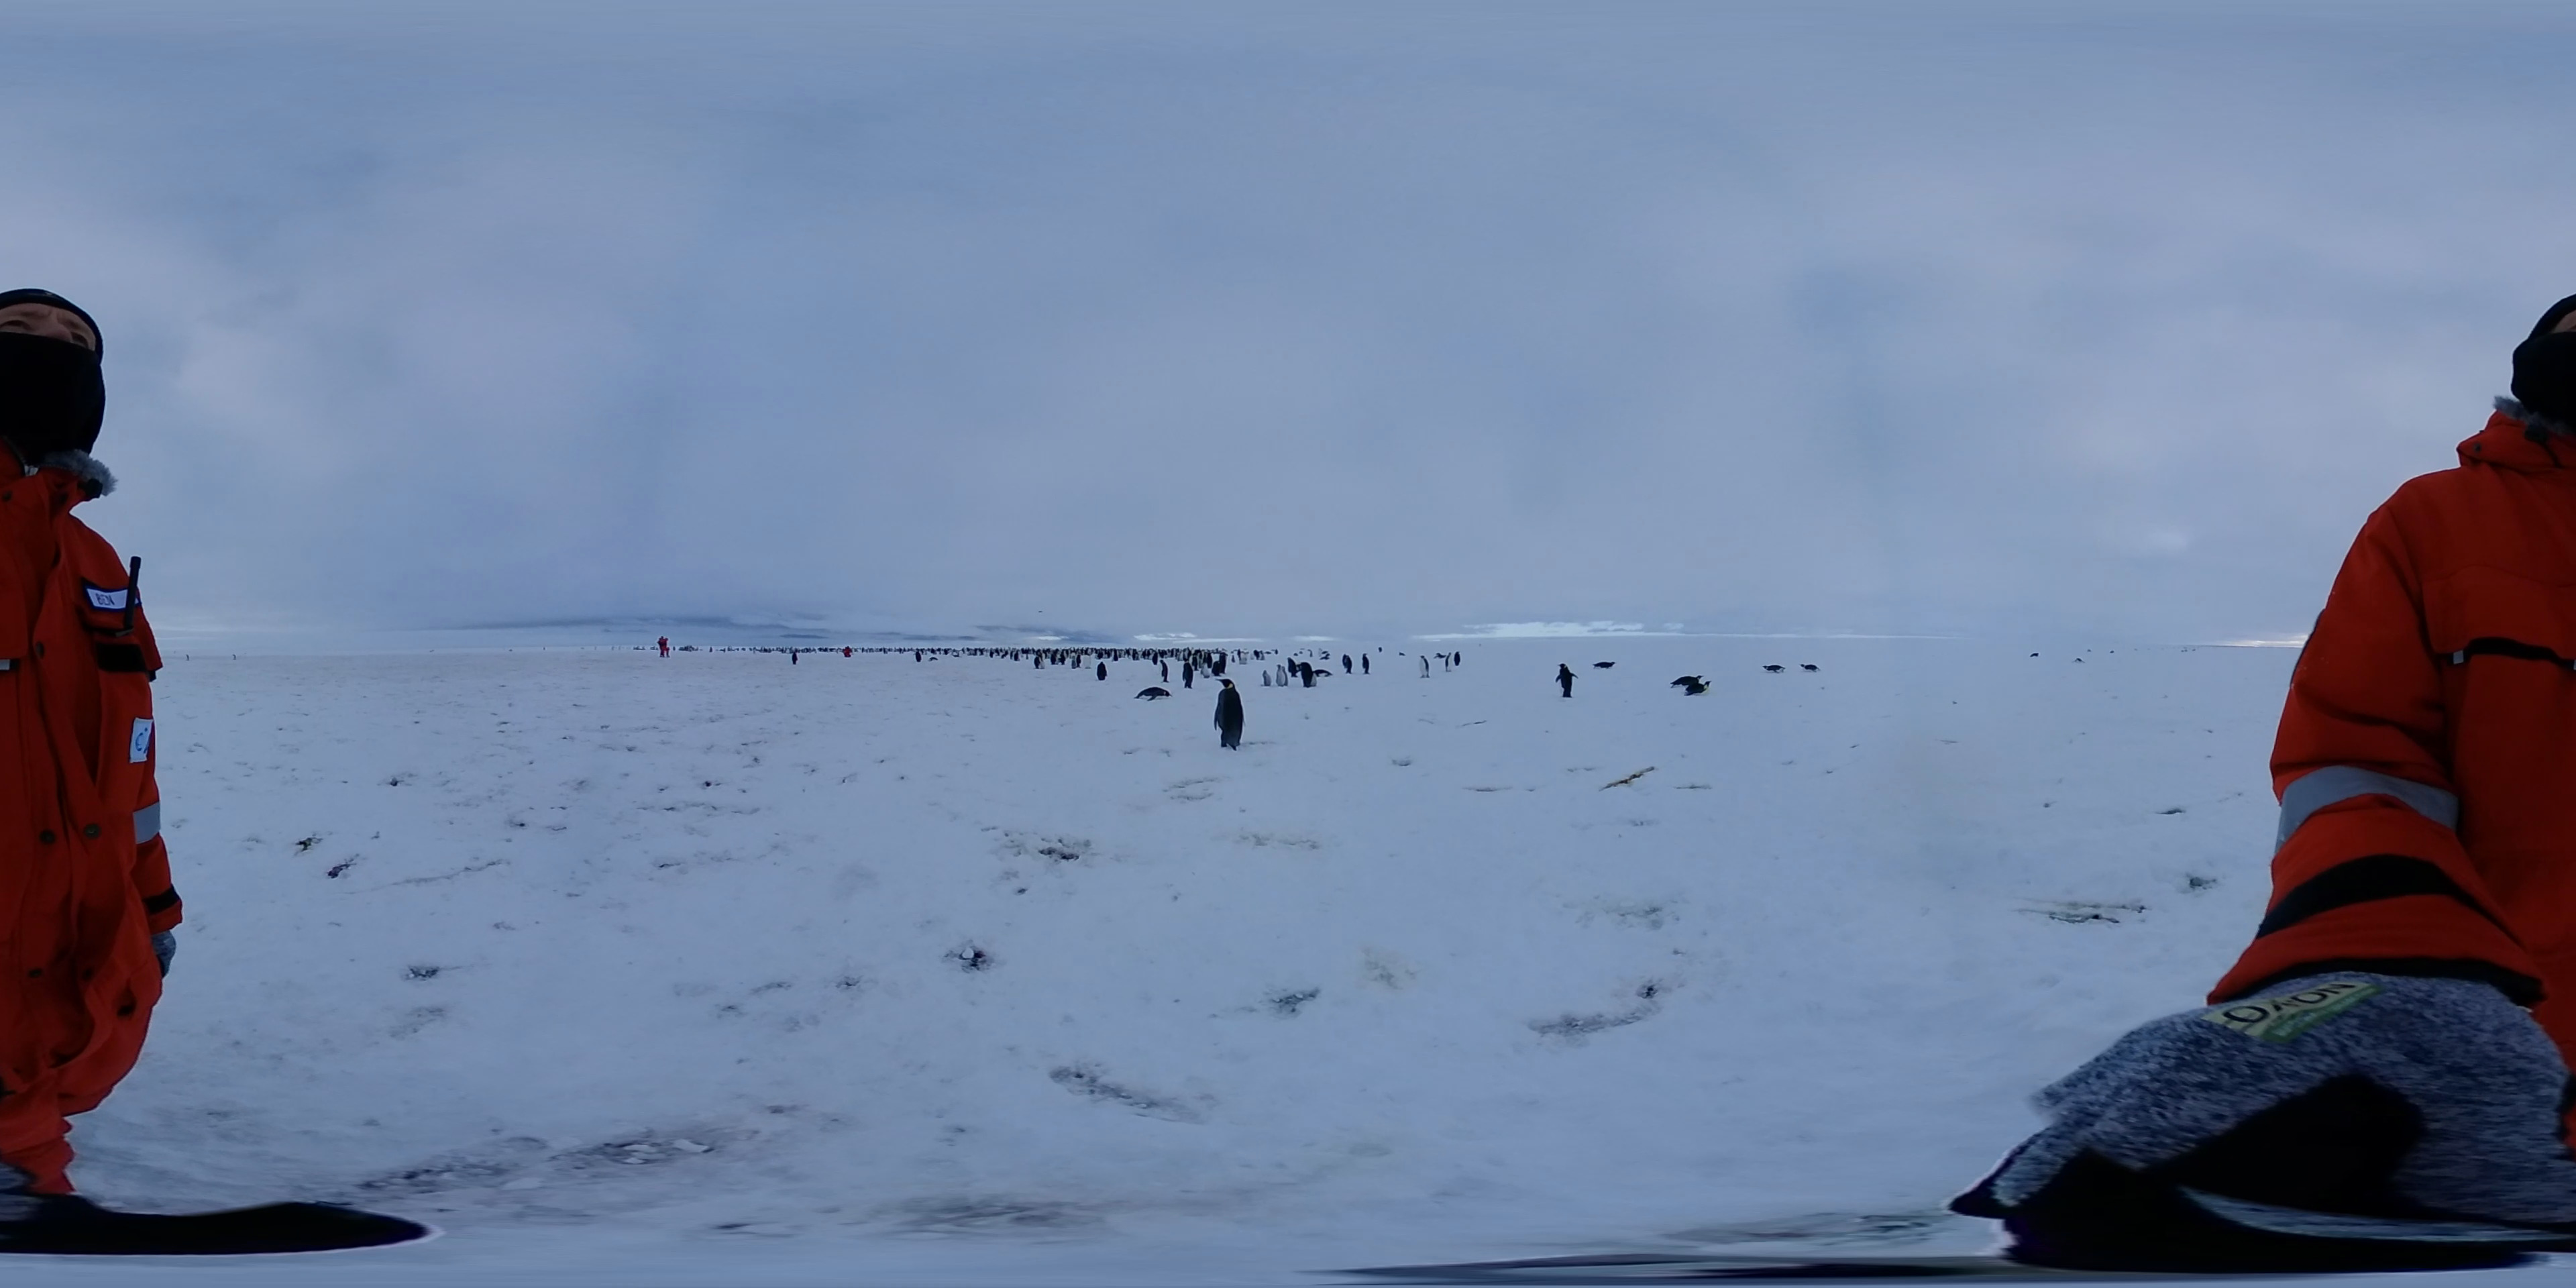adult_standing_penguin: (1211, 677, 1247, 752), (1551, 662, 1579, 701), (1296, 659, 1319, 690), (1178, 659, 1193, 690), (1418, 654, 1434, 678), (1155, 657, 1166, 685), (1360, 652, 1372, 677), (1444, 652, 1456, 677), (1096, 660, 1107, 680), (1344, 654, 1354, 675), (790, 649, 798, 667)
adult_toboggan_penguin: (1130, 685, 1175, 705), (1669, 674, 1704, 688), (1682, 678, 1710, 697), (1309, 664, 1337, 678), (1756, 662, 1786, 674), (1801, 662, 1824, 674), (1592, 660, 1613, 669)
juvenile_penguin: (1273, 662, 1288, 688), (1258, 669, 1270, 688)
researcher: (2196, 253, 2576, 1143), (0, 273, 191, 1207), (655, 636, 669, 657)
